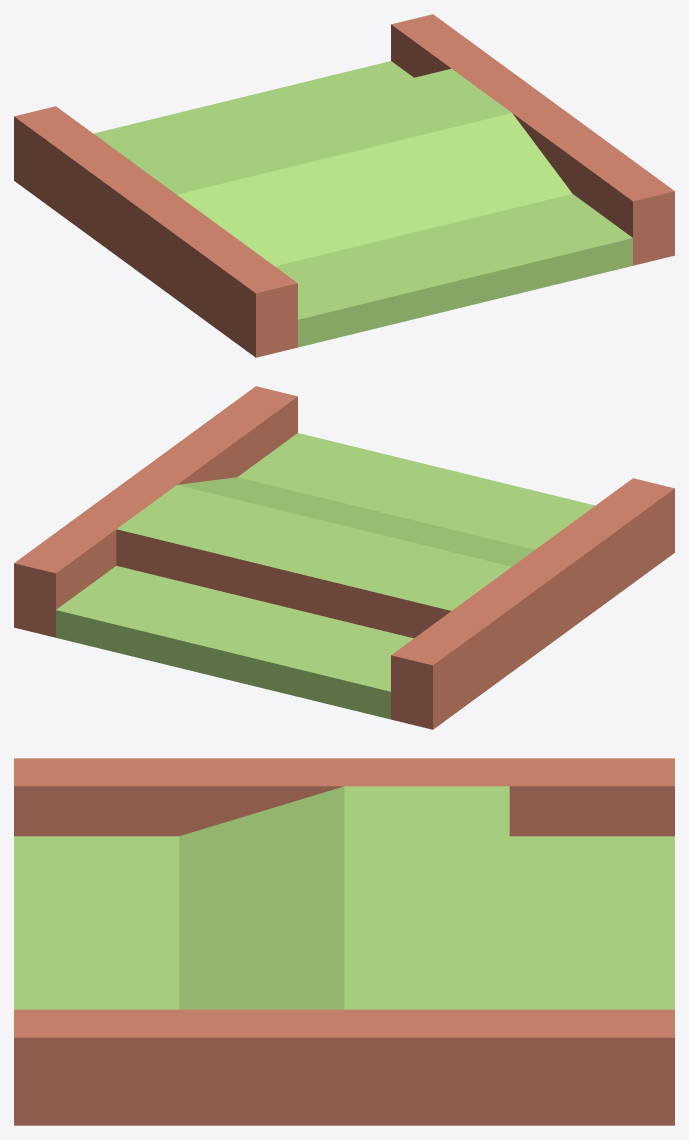
Rendered from Ramp_square_01.glb.
3 renders of one model, top to bottom at view 1: azimuth 30°, elevation 25°; view 2: azimuth 150°, elevation 25°; view 3: azimuth 270°, elevation 25°, orthographic. The views are drawn at different scales.
Parts seen in each view (by area): view 1: Mesh1 Ramp_square Model; view 2: Mesh1 Ramp_square Model; view 3: Mesh1 Ramp_square Model.
Part boxes in pixels (x1,y1,x2,y2): Mesh1 Ramp_square Model: (14, 14, 674, 357); Mesh1 Ramp_square Model: (14, 386, 674, 729); Mesh1 Ramp_square Model: (14, 758, 674, 1125).
Bounding box in the file's own units: 3 × 0.44 × 3.
